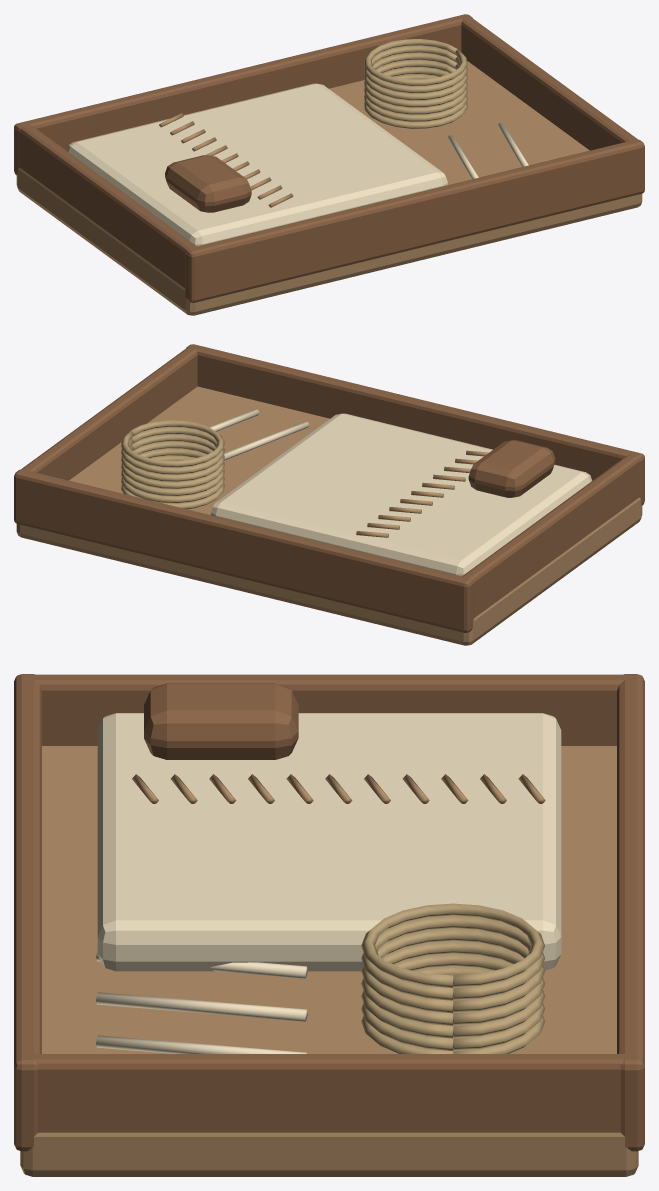
The model's file is sailmaker-kit.glb.
3 renders of one model, top to bottom at view 1: azimuth 30°, elevation 25°; view 2: azimuth 150°, elevation 25°; view 3: azimuth 270°, elevation 25°, orthographic. The views are drawn at different scales.
Visible parts, largest first — view 1: sailmaker-kit__wood, sailmaker-kit__linen, sailmaker-kit__woodlight, sailmaker-kit__rope; view 2: sailmaker-kit__wood, sailmaker-kit__linen, sailmaker-kit__woodlight, sailmaker-kit__rope; view 3: sailmaker-kit__wood, sailmaker-kit__linen, sailmaker-kit__woodlight, sailmaker-kit__rope.
Part boxes in pixels (box(x1,y1,x2,y2)): sailmaker-kit__wood: box(14, 14, 644, 302); sailmaker-kit__linen: box(66, 83, 528, 246); sailmaker-kit__woodlight: box(16, 61, 642, 315); sailmaker-kit__rope: box(364, 39, 467, 129); sailmaker-kit__wood: box(14, 344, 644, 632); sailmaker-kit__linen: box(209, 409, 592, 576); sailmaker-kit__woodlight: box(16, 386, 642, 645); sailmaker-kit__rope: box(121, 420, 224, 509); sailmaker-kit__wood: box(14, 674, 644, 1151); sailmaker-kit__linen: box(96, 713, 561, 1053); sailmaker-kit__woodlight: box(20, 746, 638, 1176); sailmaker-kit__rope: box(361, 903, 545, 1053).
Bounding box in the file's own units: 0.6 × 0.1125 × 0.408.
